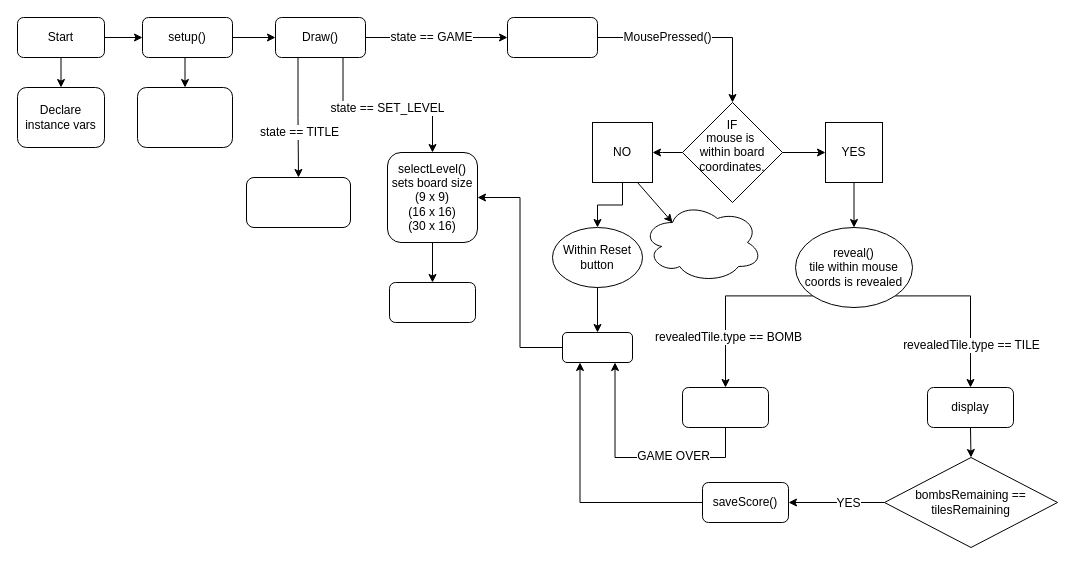
The diagram is 1075 pixels wide and 565 high, and some of its shapes have lost their labels. The centre of each missing label's shape, as x and y in pixels:
Define instance vars: point (184, 117)
explode(): point (725, 407)
Future Options: point (702, 242)
playGame(): point (552, 37)
populate(): point (432, 302)
reset(): point (597, 347)
Title() displays title screen & creds: point (298, 202)
